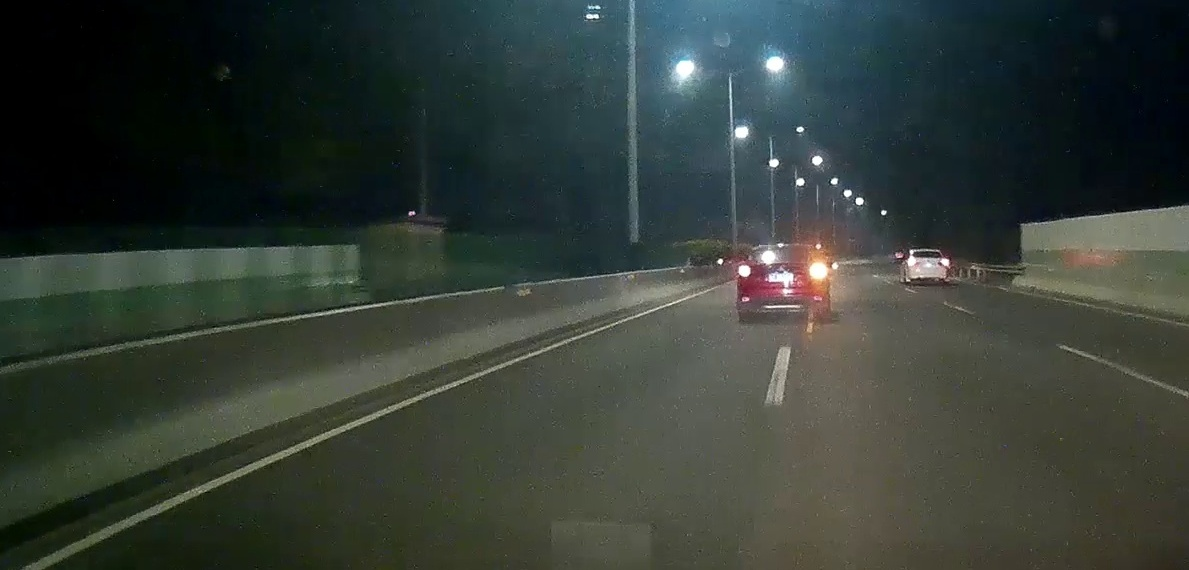L_light: (738, 264, 754, 278), (906, 258, 917, 266)
R_light: (809, 263, 827, 278)
T_light: (939, 258, 949, 266), (775, 246, 789, 250), (923, 251, 931, 253)
night-no: (905, 249, 949, 284)
night-right: (736, 244, 831, 318)
